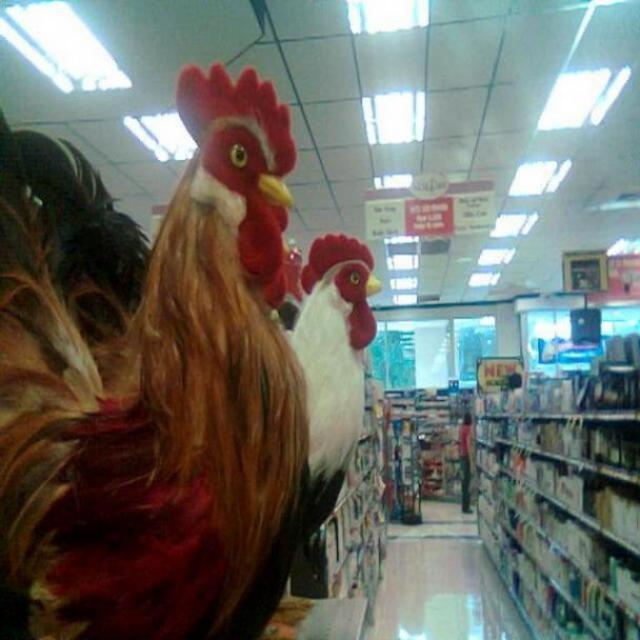Chicken: (13, 46, 328, 618), (210, 232, 386, 639)
